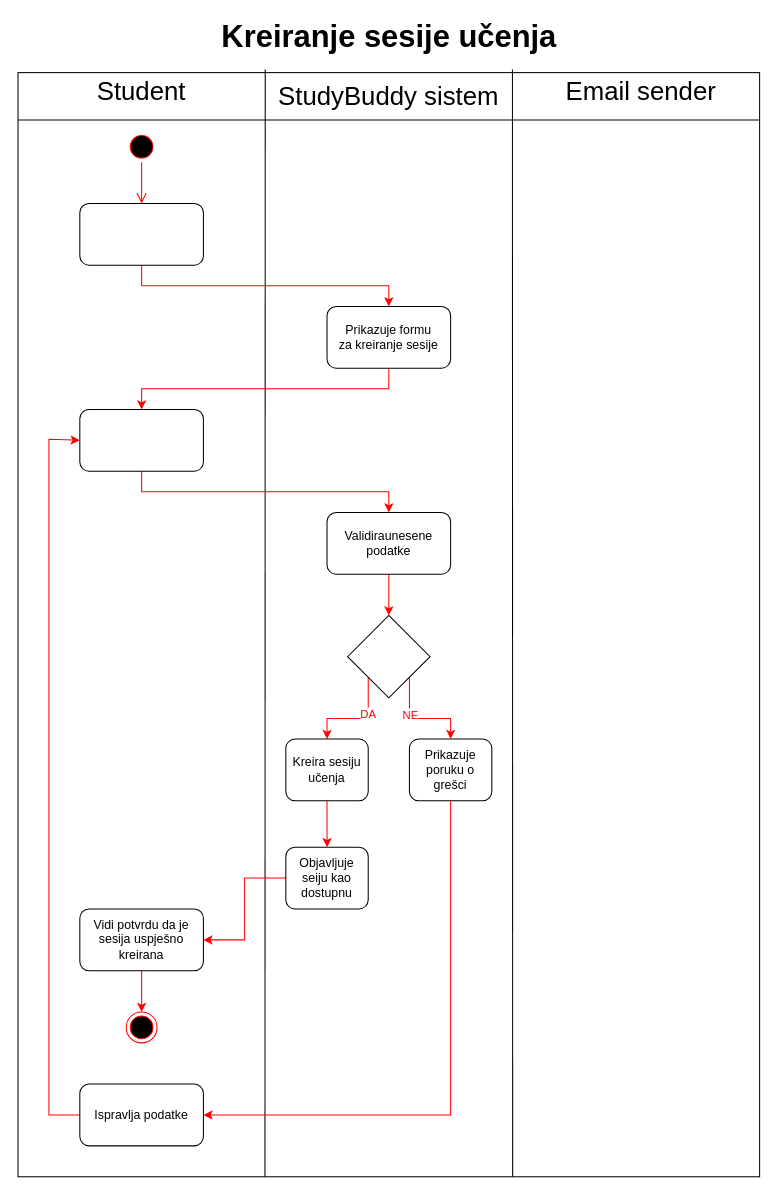
Some shapes in this 779 by 1196 pixel diagram are drawn without their labels. The centre of each missing label's shape, as x and y in pixels:
"Bira opciju kreiranja sesije" belongs at point 141,233.
"Podaci ispravni?" belongs at point 388,656.
"Unosi podatke o sesiji" belongs at point 141,439.
